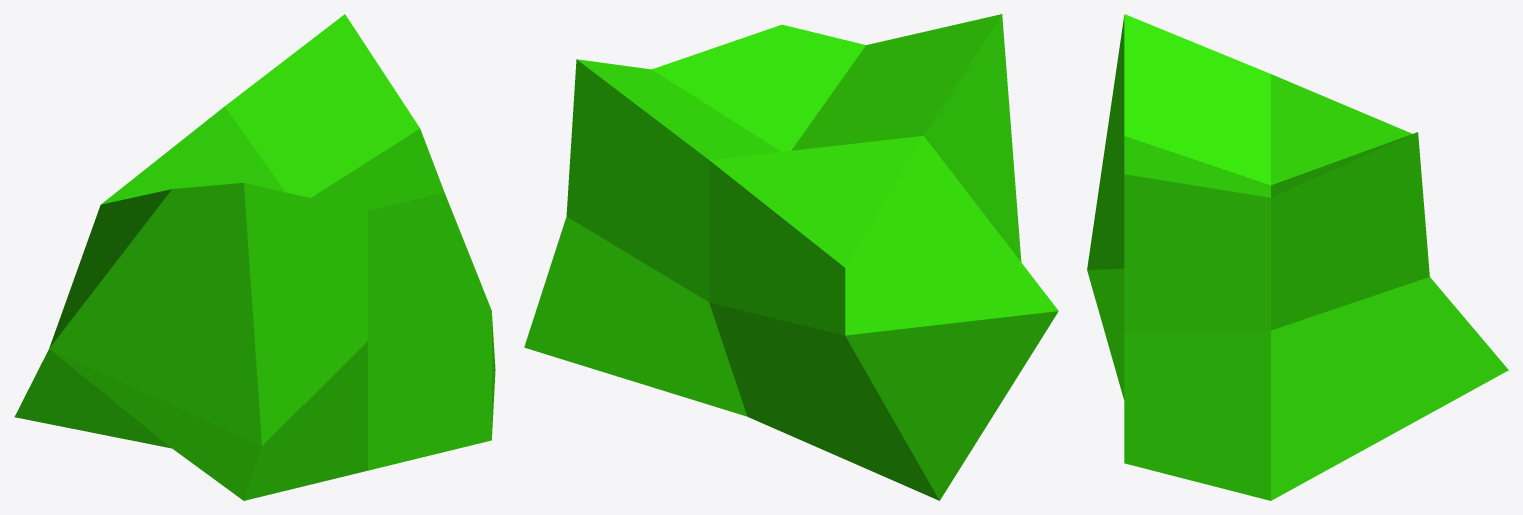
The model's file is Bush.glb.
3 renders of one model, left to right at view 1: azimuth 30°, elevation 25°; view 2: azimuth 150°, elevation 25°; view 3: azimuth 270°, elevation 25°, orthographic. The views are drawn at different scales.
Visible parts, largest first — view 1: Cube; view 2: Cube; view 3: Cube.
Part boxes in pixels (left/top/right/bottom): Cube: left=14, top=14, right=495, bottom=500; Cube: left=524, top=14, right=1058, bottom=500; Cube: left=1087, top=14, right=1508, bottom=500.
Size of the model in its own units: 3.6 by 2.48 by 2.88.
